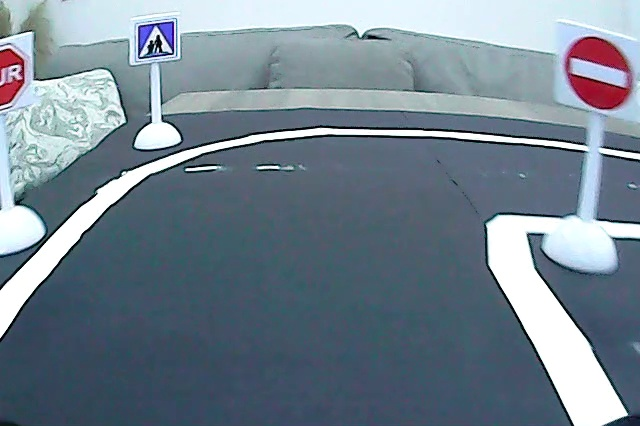do not enter: (560, 32, 635, 114)
school crossing: (133, 17, 176, 64)
